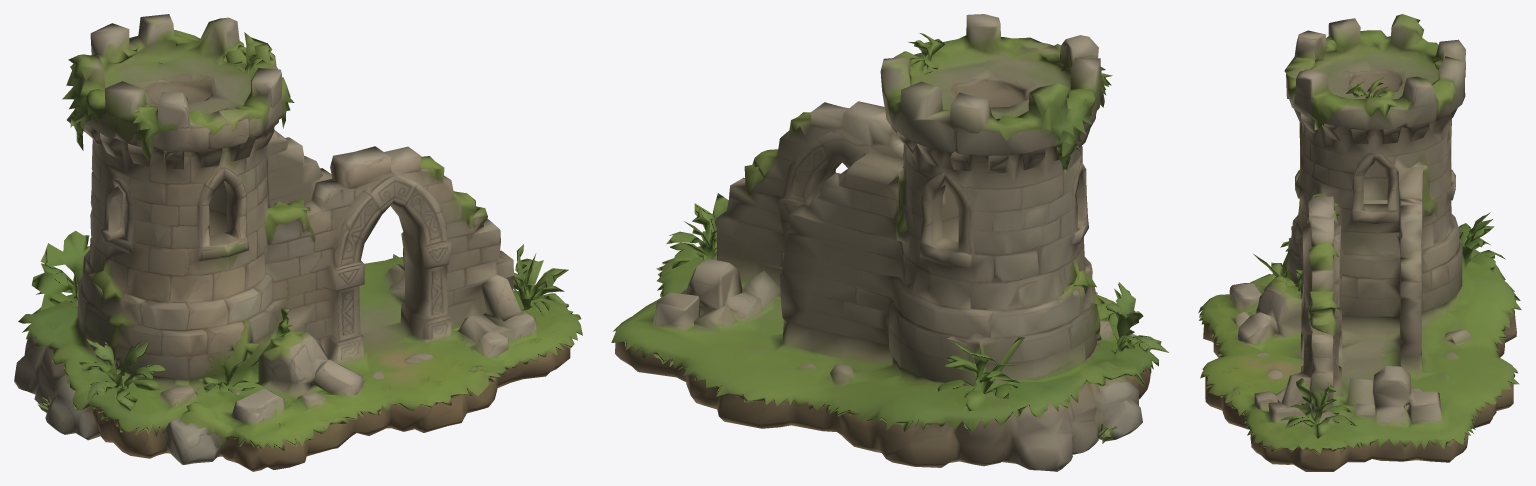
File: stone ruin 3d model.glb
3 views of the same model, side by side, from view 1: azimuth 30°, elevation 25°; view 2: azimuth 150°, elevation 25°; view 3: azimuth 270°, elevation 25° (orthographic). The views are drawn at different scales.
Visible parts, largest first — view 1: tripo_node_29e610a2-ae3a-4631-a697-64ea74a53f9b; view 2: tripo_node_29e610a2-ae3a-4631-a697-64ea74a53f9b; view 3: tripo_node_29e610a2-ae3a-4631-a697-64ea74a53f9b.
Part boxes in pixels (bbox=[...]): tripo_node_29e610a2-ae3a-4631-a697-64ea74a53f9b: bbox=[14, 14, 582, 471]; tripo_node_29e610a2-ae3a-4631-a697-64ea74a53f9b: bbox=[611, 14, 1168, 471]; tripo_node_29e610a2-ae3a-4631-a697-64ea74a53f9b: bbox=[1198, 14, 1521, 471].
Bounding box in the file's own units: 1 × 0.6724 × 0.6854.
Materials: 1 (1 with a texture image).
